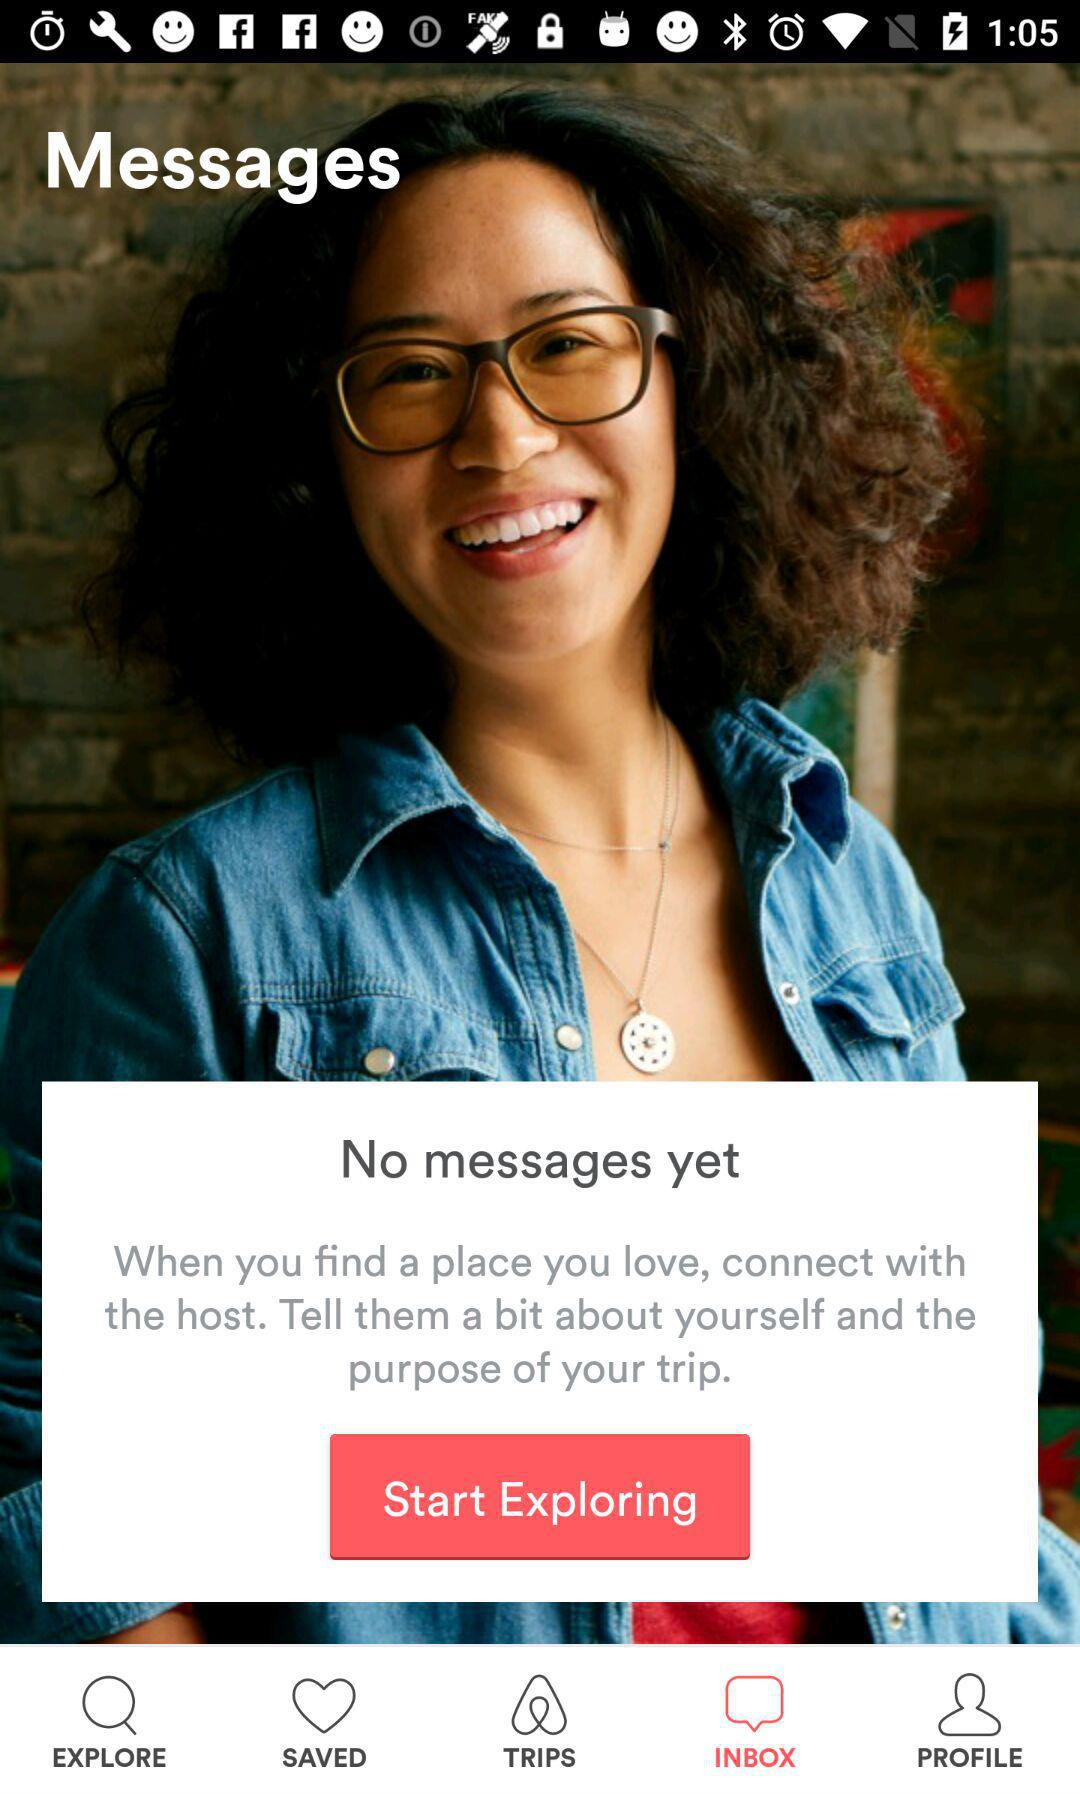Icon: (937, 1672, 1002, 1738), (292, 1677, 357, 1734), (725, 1675, 785, 1732), (82, 1675, 138, 1736)
Image: (1, 64, 1080, 1644), (511, 1674, 568, 1736)
Text: (105, 1243, 978, 1392), (47, 131, 402, 208), (342, 1138, 740, 1190), (53, 1747, 167, 1768), (917, 1747, 1024, 1768), (282, 1747, 366, 1768), (715, 1747, 797, 1768), (503, 1747, 577, 1768)
TextButton: (331, 1433, 751, 1561)
UpperTaskBar: (1, 1, 1080, 64)
